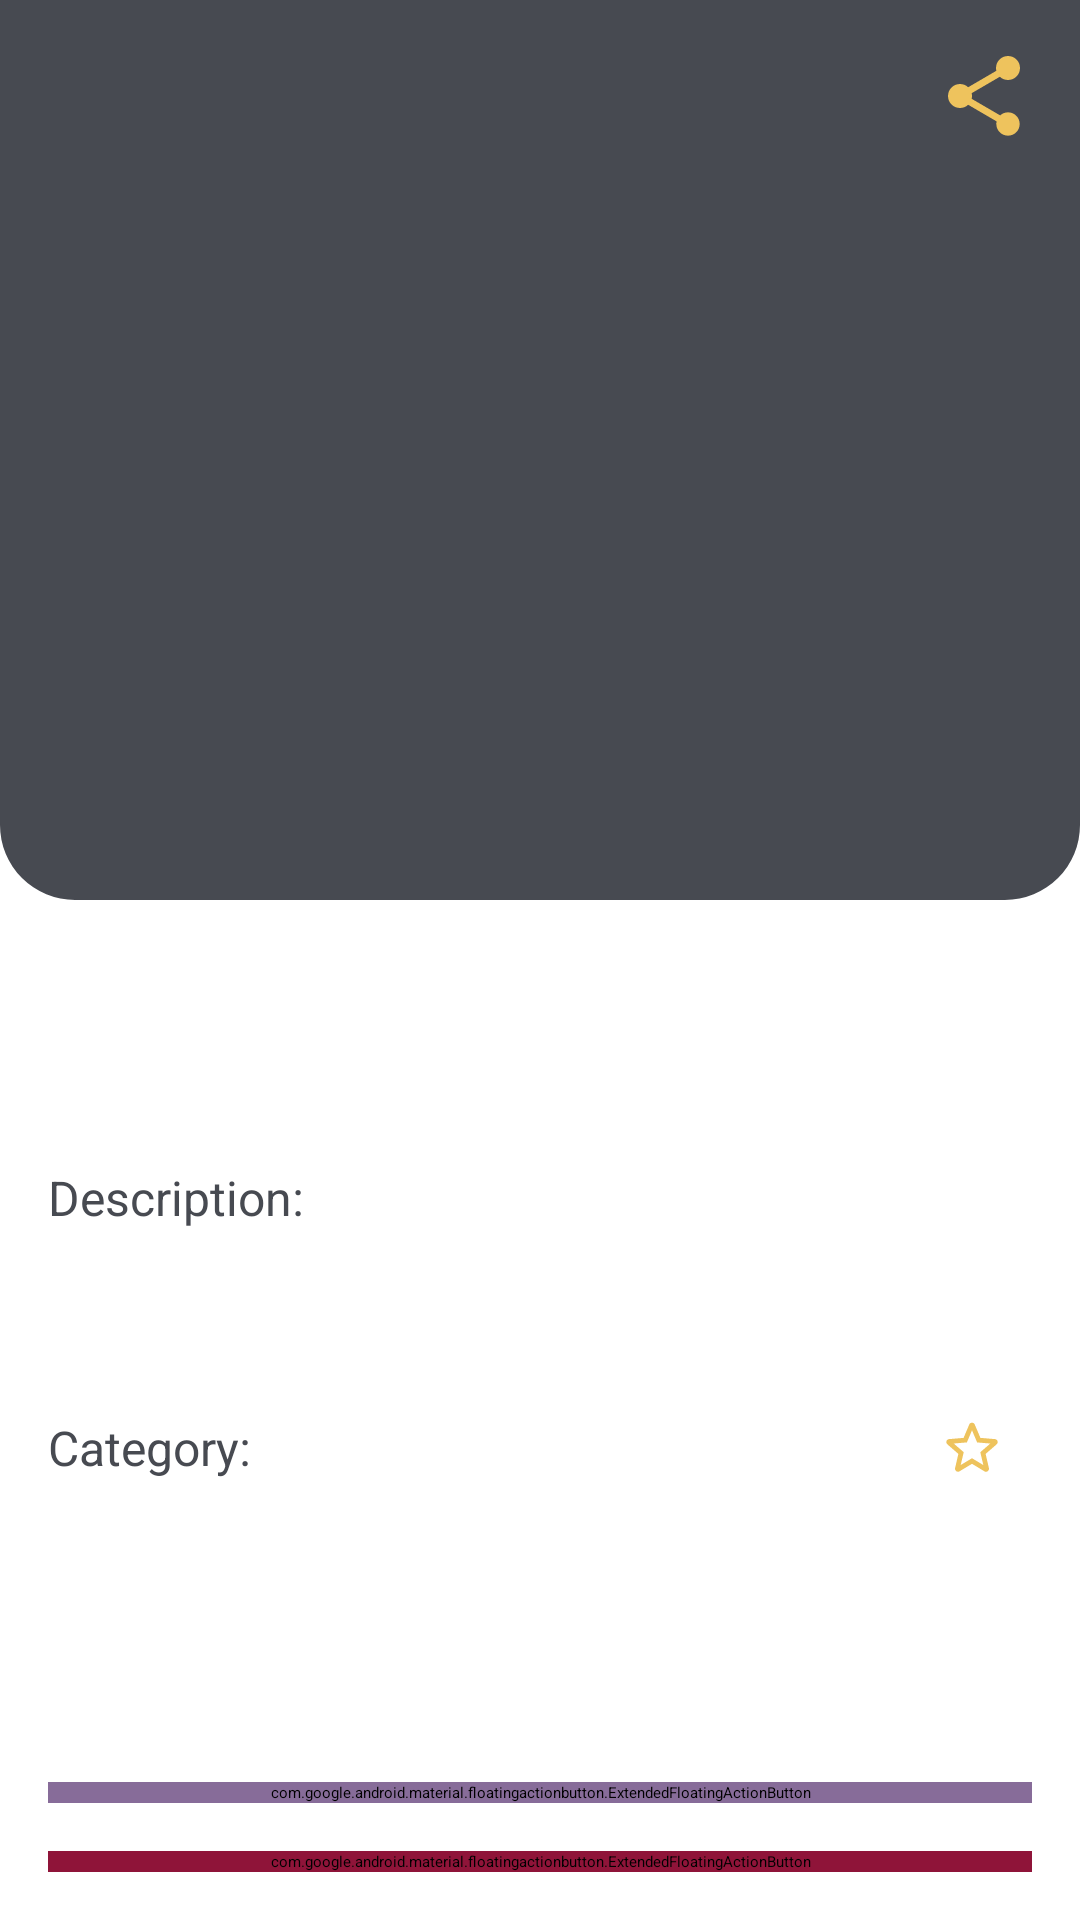

Icons on this 1080x1920 Android screen, each with its box as (x1, y1, x2, y2):
rating: (946, 1422, 998, 1472)
share: (948, 56, 1020, 136)
